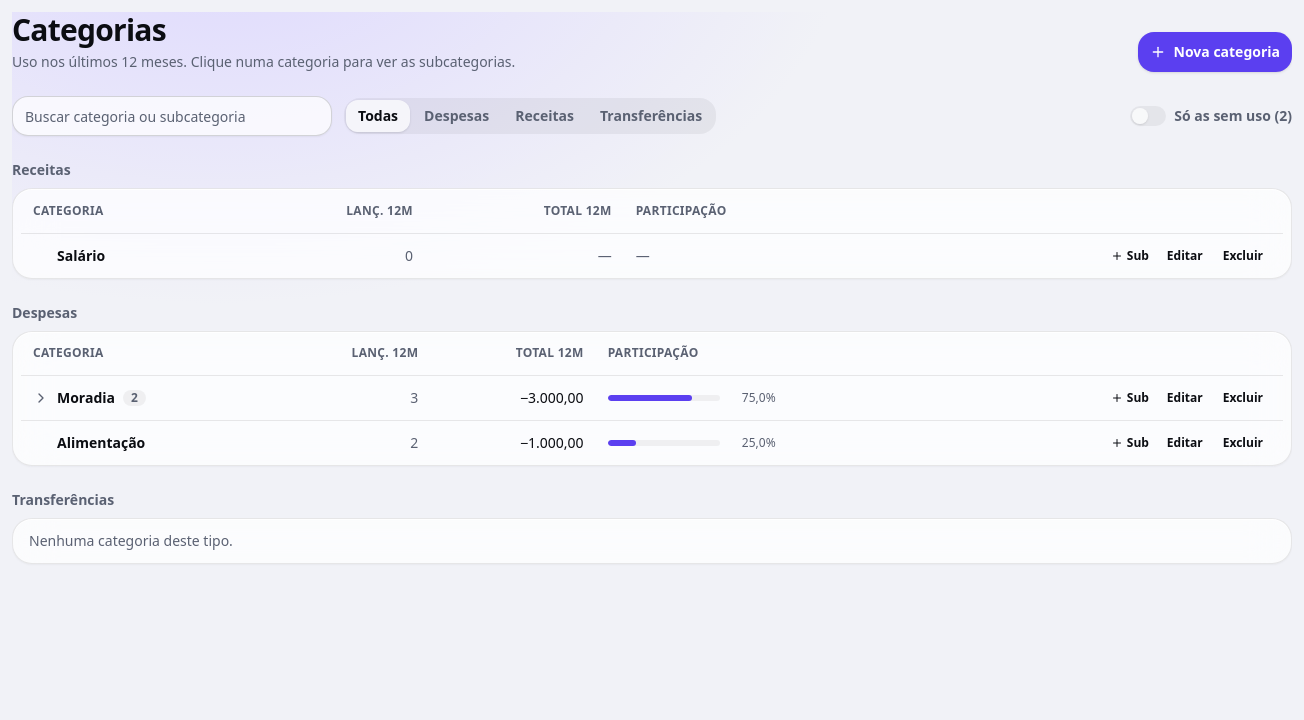
Test: CategoriesPage › opens the edit form right after the edited category
Click the button "Moradia 2" at (89, 398), box [33, 388, 146, 408]
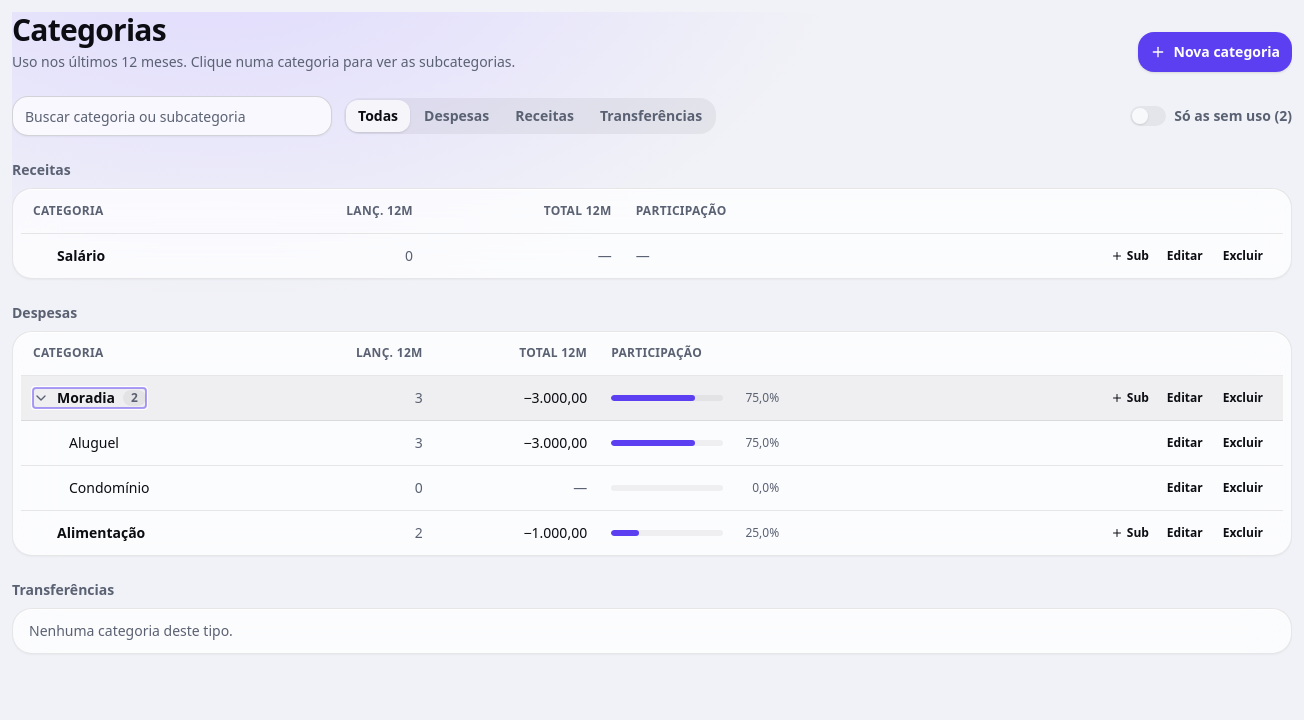
Click the button with aria-label "Editar Aluguel" at (1185, 443), box [1159, 431, 1211, 455]
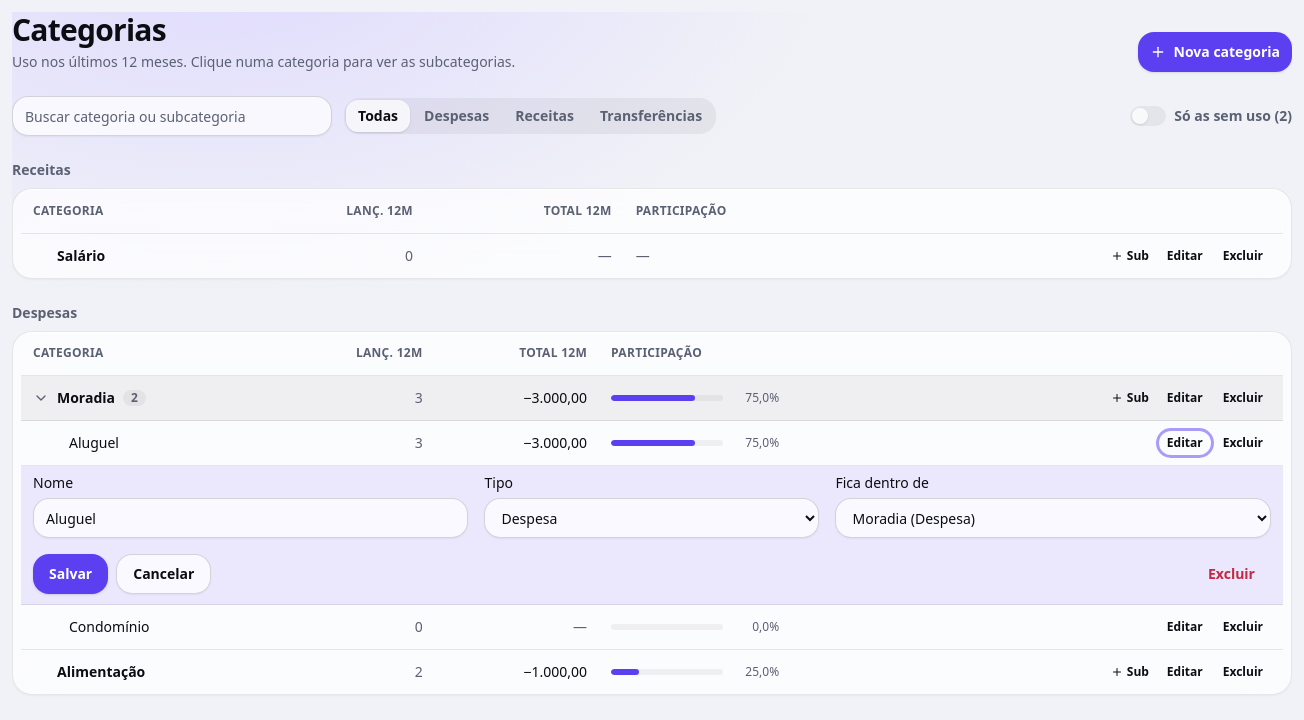
Expected: the field labelled "Nome" holds "Aluguel", [33, 498, 468, 538]
Expected: the dropdown labelled "Fica dentro de" shows "Moradia (Despesa)", [836, 498, 1271, 538]
Expected: the number of fields labelled "Nome" is 1, [33, 498, 468, 538]
